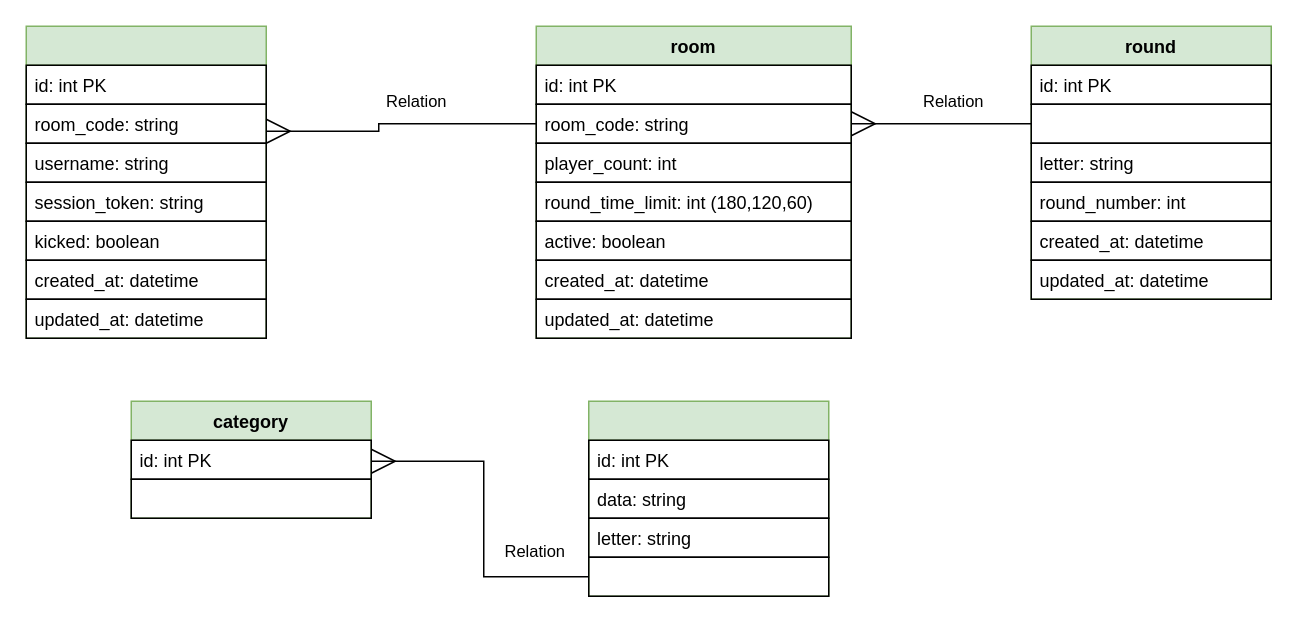
Image size: 1298x627. Some labels were removed from this diagram. The box of each missing label's shape, as (x1, y1, x2, y2) in pixels:
category: string: (130, 478, 371, 518)
category_id: int FK: (587, 556, 829, 596)
field_data: (587, 400, 829, 596)
player: (25, 25, 266, 338)
room_code: string FK: (1030, 103, 1271, 143)
